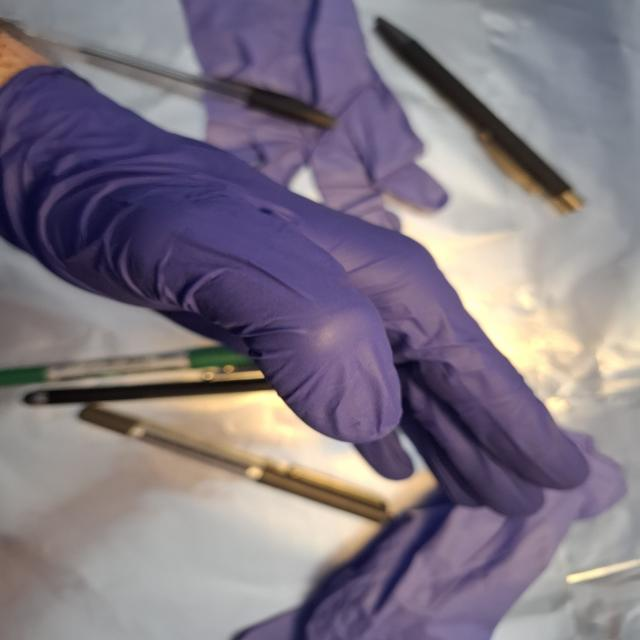glove_on: (0, 61, 596, 523)
